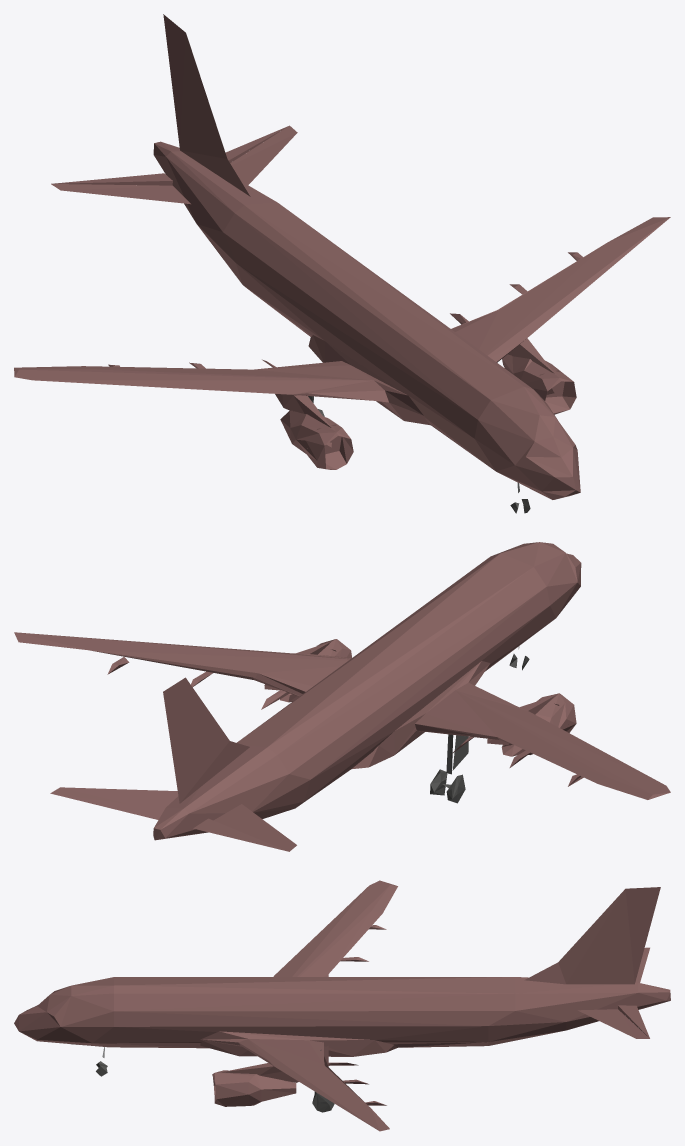
The model's file is a320.hull-v1.lod2.glb.
The picture shows the model from 3 angles, top to bottom: view 1: azimuth 30°, elevation 25°; view 2: azimuth 150°, elevation 25°; view 3: azimuth 270°, elevation 25°; orthographic projection. The views are drawn at different scales.
Parts seen in each view (by area): view 1: Object_4; view 2: Object_4; view 3: Object_4.
Boxes of the visible parts, x1=… form: Object_4: x1=14, y1=14, x2=670, y2=513; Object_4: x1=14, y1=542, x2=670, y2=851; Object_4: x1=14, y1=880, x2=670, y2=1131.
Size of the model in its own units: 33.99 by 12.31 by 37.6.
